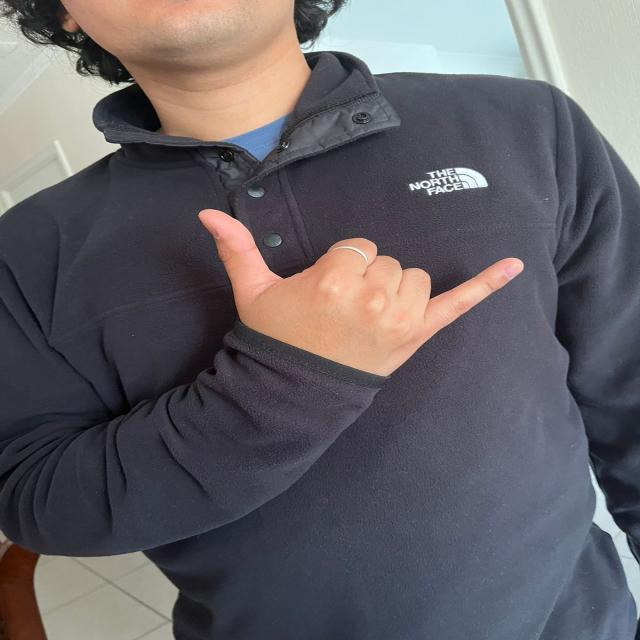Y: (195, 200, 524, 377)
